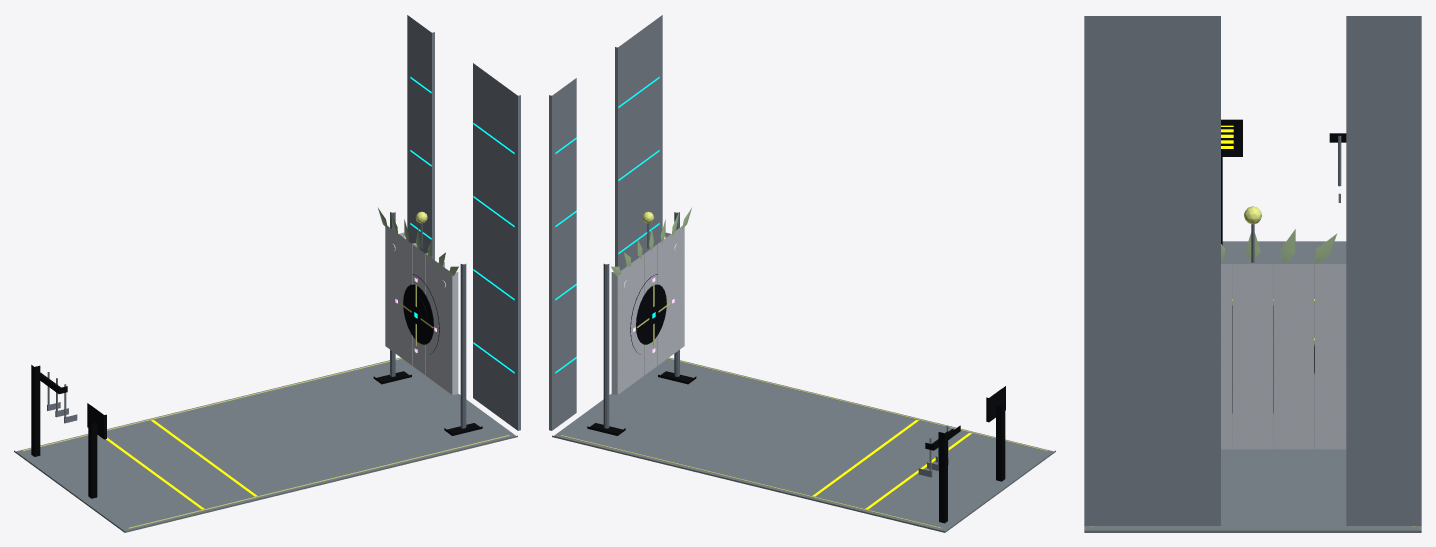
File: tt_axe_bay_tree_gate.glb
3 renders of one model, left to right at view 1: azimuth 30°, elevation 25°; view 2: azimuth 150°, elevation 25°; view 3: azimuth 270°, elevation 25°, orthographic. The views are drawn at different scales.
Parts seen in each view (by area): view 1: Floor_Mat, Wall_Lining, Target_Boards, Target_Rings, Target_Posts, Court_Inlay, Rack_Post, Tablet_Post, Throw_Lines; view 2: Floor_Mat, Wall_Lining, Target_Boards, Target_Rings, Target_Posts, Court_Inlay, Rack_Post, Tablet_Post, Throw_Lines; view 3: Wall_Lining, Target_Boards, Floor_Mat, Target_LeafCrown, Tablet_Plate.
Part boxes in pixels (x1=…): Floor_Mat: x1=14, y1=357, x2=517, y2=532; Wall_Lining: x1=407, y1=15, x2=520, y2=430; Target_Boards: x1=385, y1=226, x2=458, y2=394; Target_Rings: x1=403, y1=274, x2=439, y2=354; Target_Posts: x1=390, y1=212, x2=466, y2=428; Court_Inlay: x1=22, y1=358, x2=509, y2=528; Rack_Post: x1=31, y1=365, x2=40, y2=456; Tablet_Post: x1=88, y1=422, x2=97, y2=498; Throw_Lines: x1=106, y1=420, x2=257, y2=509; Floor_Mat: x1=552, y1=357, x2=1055, y2=532; Wall_Lining: x1=549, y1=15, x2=662, y2=430; Target_Boards: x1=611, y1=226, x2=684, y2=394; Target_Rings: x1=630, y1=274, x2=666, y2=354; Target_Posts: x1=603, y1=212, x2=679, y2=428; Court_Inlay: x1=560, y1=358, x2=1047, y2=528; Rack_Post: x1=939, y1=431, x2=947, y2=523; Tablet_Post: x1=996, y1=404, x2=1005, y2=481; Throw_Lines: x1=812, y1=420, x2=972, y2=509; Wall_Lining: x1=1084, y1=16, x2=1421, y2=525; Target_Boards: x1=1221, y1=264, x2=1346, y2=449; Floor_Mat: x1=1084, y1=241, x2=1421, y2=532; Target_LeafCrown: x1=1221, y1=229, x2=1346, y2=263; Tablet_Plate: x1=1221, y1=123, x2=1238, y2=153.
Size of what is drawn, in the model's own units: 6.8 by 5.6 by 3.3.
12 materials, 5 textured.
